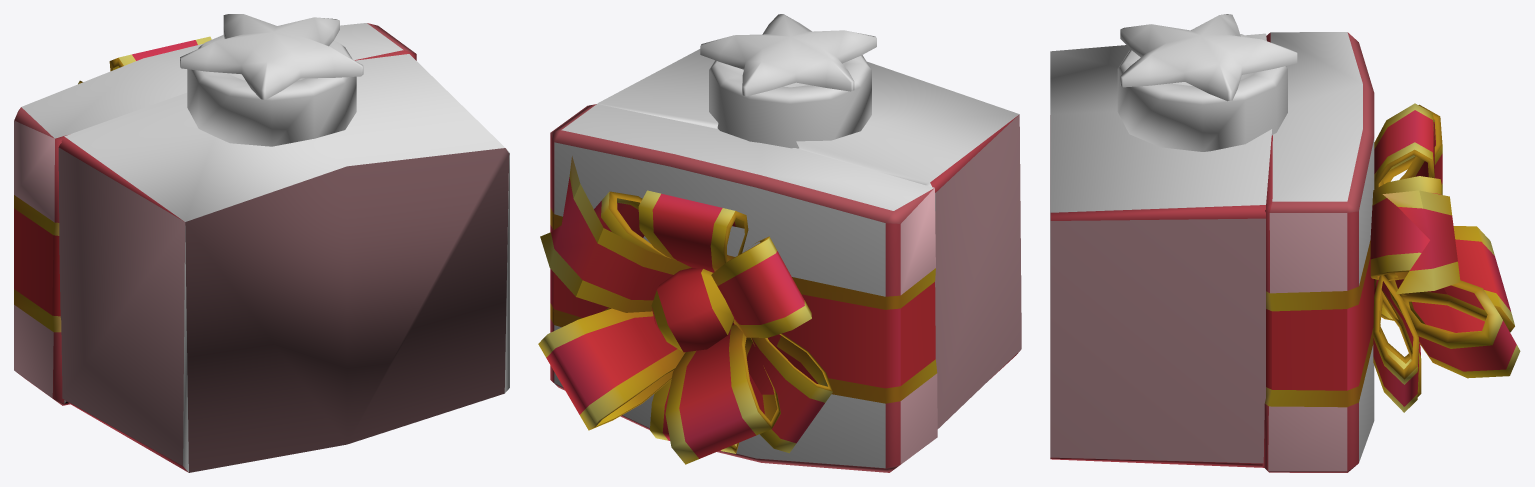
File: trunkProgressionRockHopper.fbx
3 renders of one model, left to right at view 1: azimuth 30°, elevation 25°; view 2: azimuth 150°, elevation 25°; view 3: azimuth 270°, elevation 25°, orthographic. The views are drawn at different scales.
Visible parts, largest first — view 1: trunkProgressionRockHopper, trunkProgressionLidRockHopper; view 2: trunkProgressionLidRockHopper, trunkProgressionRockHopper; view 3: trunkProgressionRockHopper, trunkProgressionLidRockHopper.
Part boxes in pixels (bbox=[...]): trunkProgressionRockHopper: bbox=[58, 14, 509, 472]; trunkProgressionLidRockHopper: bbox=[14, 23, 416, 405]; trunkProgressionLidRockHopper: bbox=[538, 104, 937, 472]; trunkProgressionRockHopper: bbox=[597, 14, 1021, 428]; trunkProgressionRockHopper: bbox=[1050, 14, 1297, 467]; trunkProgressionLidRockHopper: bbox=[1262, 32, 1520, 472].
Size of the model in its own units: 59.16 by 57.73 by 65.72.
